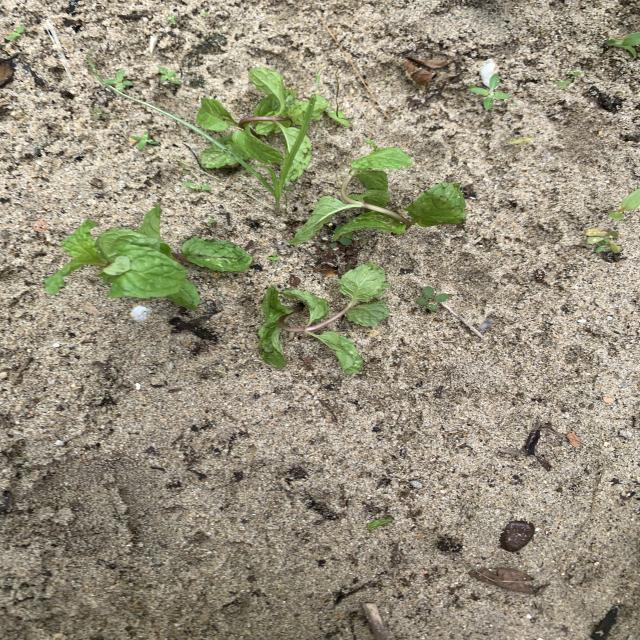crop: (44, 205, 251, 308), (291, 144, 466, 243), (259, 264, 391, 373), (196, 67, 328, 167)
weed: (136, 100, 311, 206), (470, 74, 508, 109), (610, 189, 639, 218), (416, 286, 448, 311), (607, 33, 639, 55), (587, 230, 619, 251), (106, 69, 132, 91), (130, 132, 159, 150), (553, 71, 580, 87), (158, 66, 179, 84), (6, 25, 25, 41), (183, 182, 211, 191), (367, 519, 391, 529), (92, 108, 110, 119), (509, 137, 531, 143), (268, 255, 279, 262), (207, 219, 214, 226)
